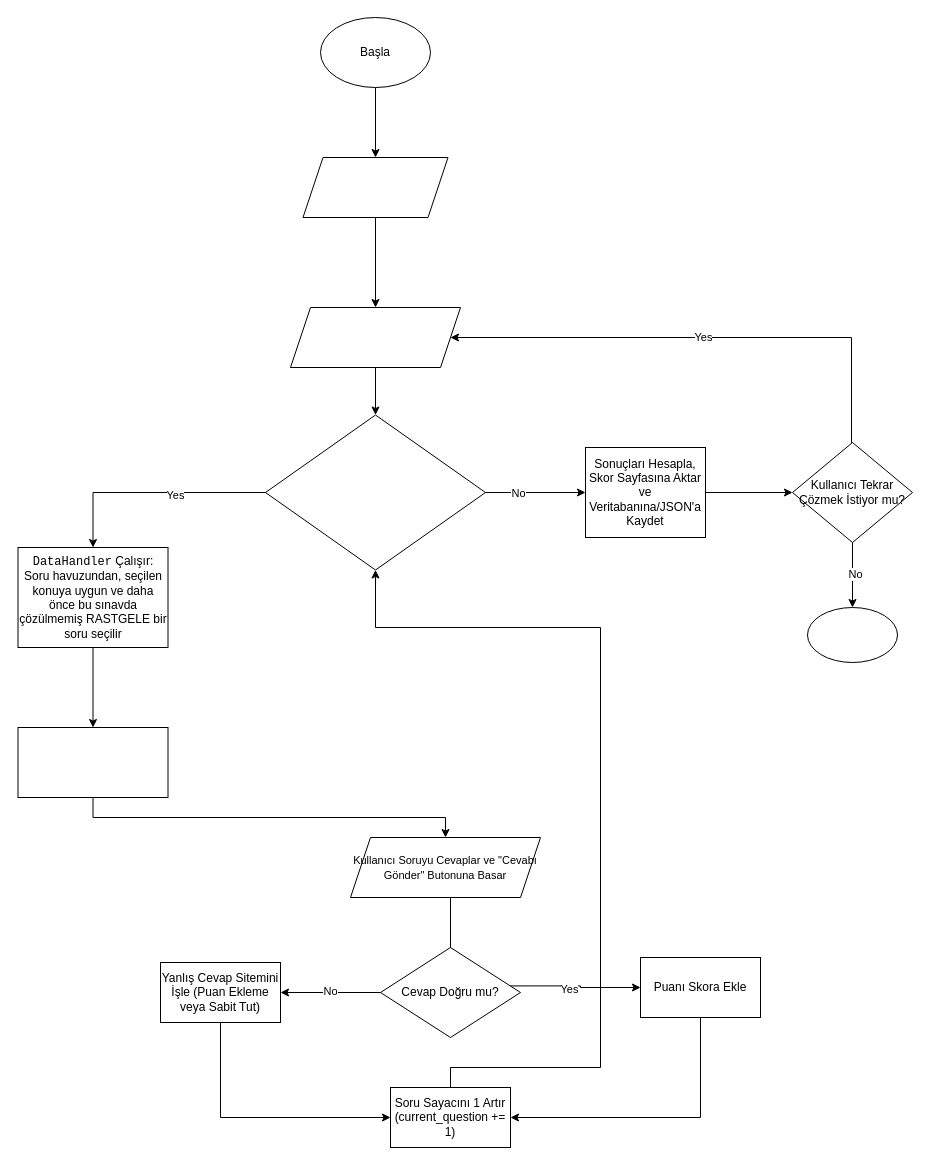
This 930x1165 diagram has some shape labels left out. The shapes that lost their labels are listed below. From the top down, each one's centre as x and y in pixels, then its label:
the point at 375,187: Kullanıcı Girişi / Kayıt İşlemi
the point at 375,337: Sınav Ayarlarının Yapılması (Konu Filtresi Seçimi)
the point at 375,492: Soru Sayısı Kontrolü (Seçilen Soru Sayısı 5 ile 10 arasında mı?)
the point at 852,634: Bitir
the point at 92,762: Seçilen Sorunun Kendi Zorluk Seviyesi (Difficulty) Sistem Tarafından Yüklenir
